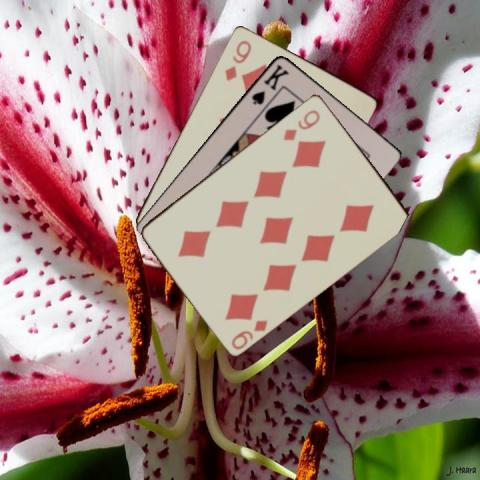9d: (279, 106, 322, 142), (221, 36, 253, 82), (228, 316, 269, 351)
Ks: (248, 61, 290, 106)
